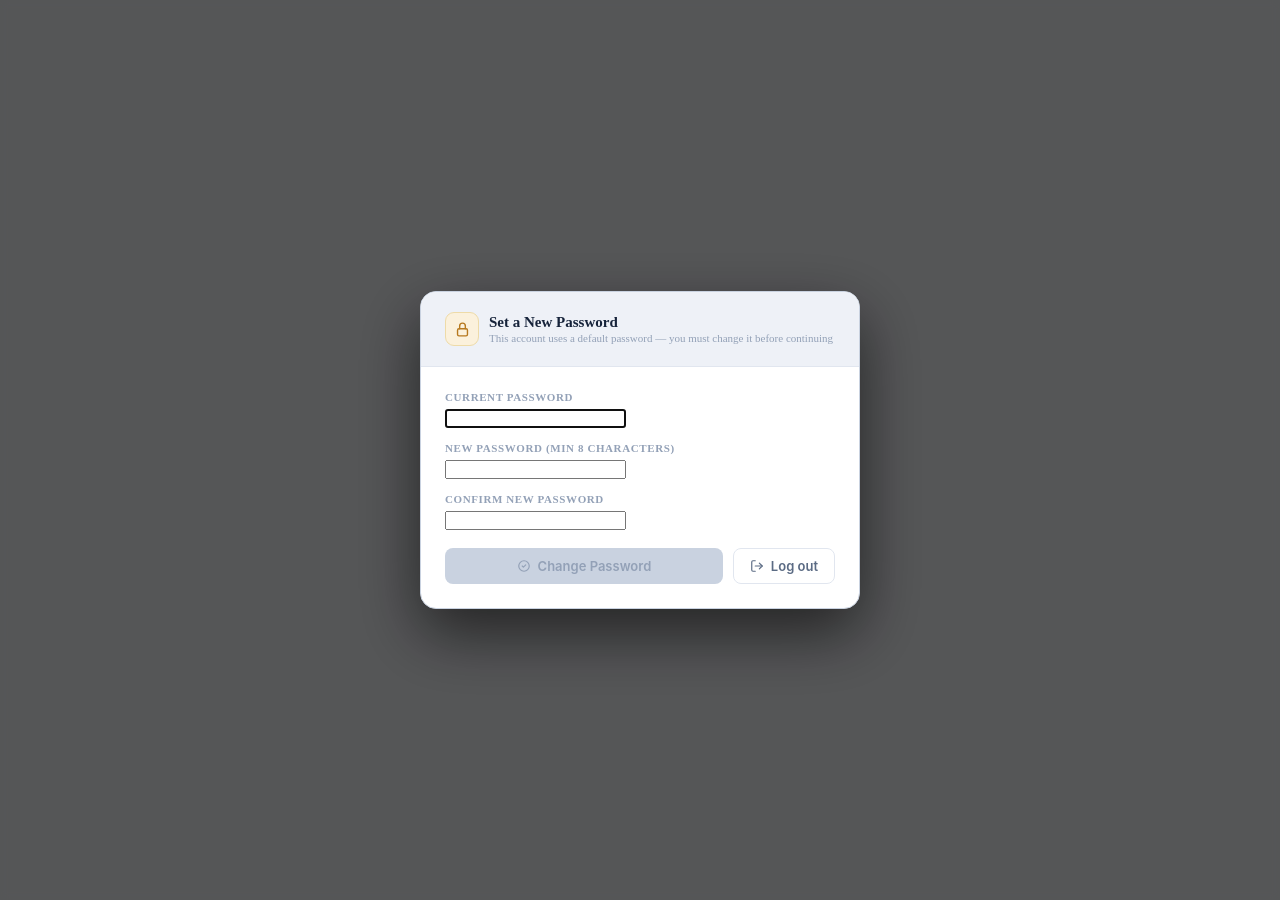
it: ForceChangePasswordModal › rejects mismatched passwords without calling the API
Type "admin123" into the password field below "Current Password" at (536, 418), box x1=445 y1=409 x2=626 y2=428
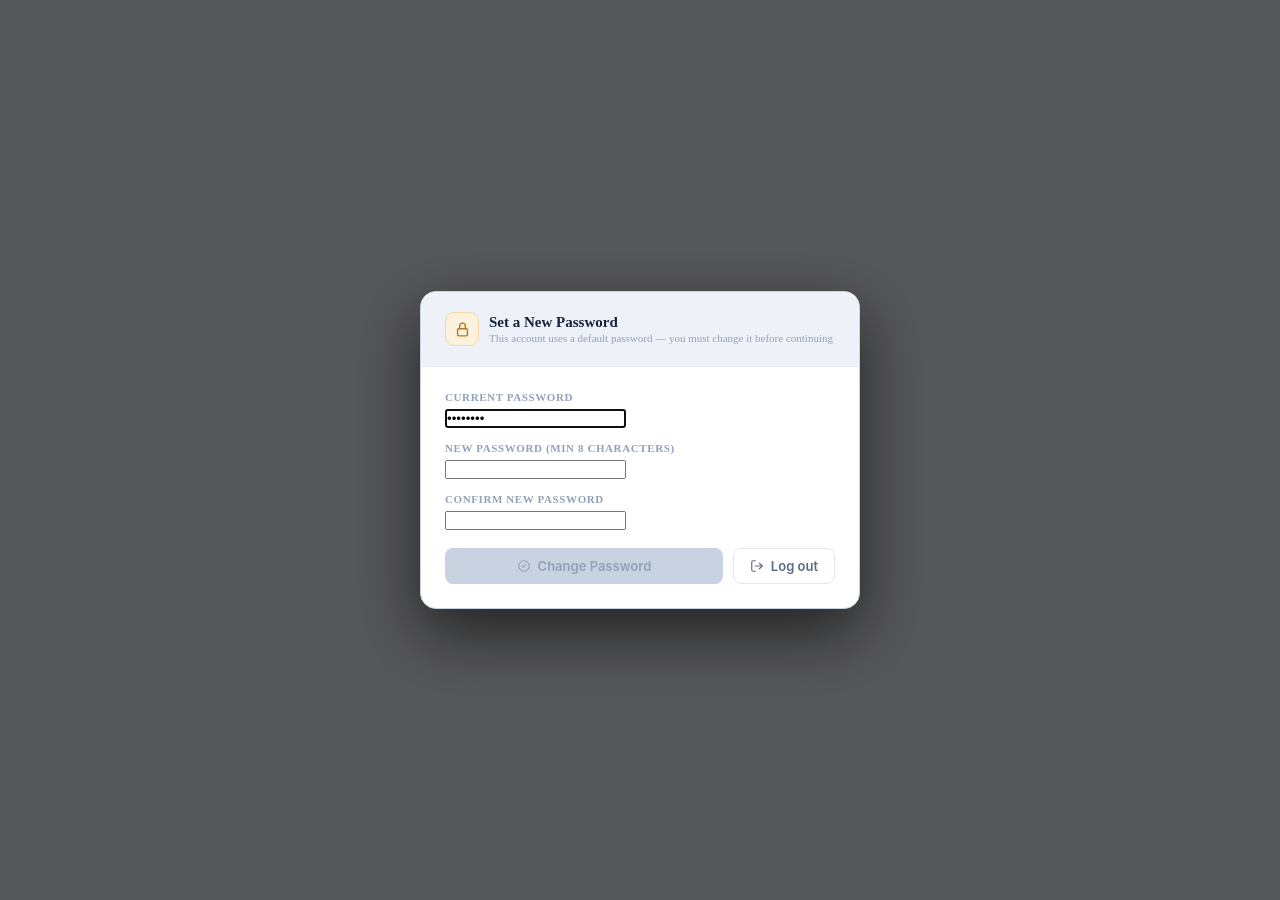
Type "new-password-1" into the password field below "New Password (min 8 characters)" at (536, 470), box x1=445 y1=460 x2=626 y2=479
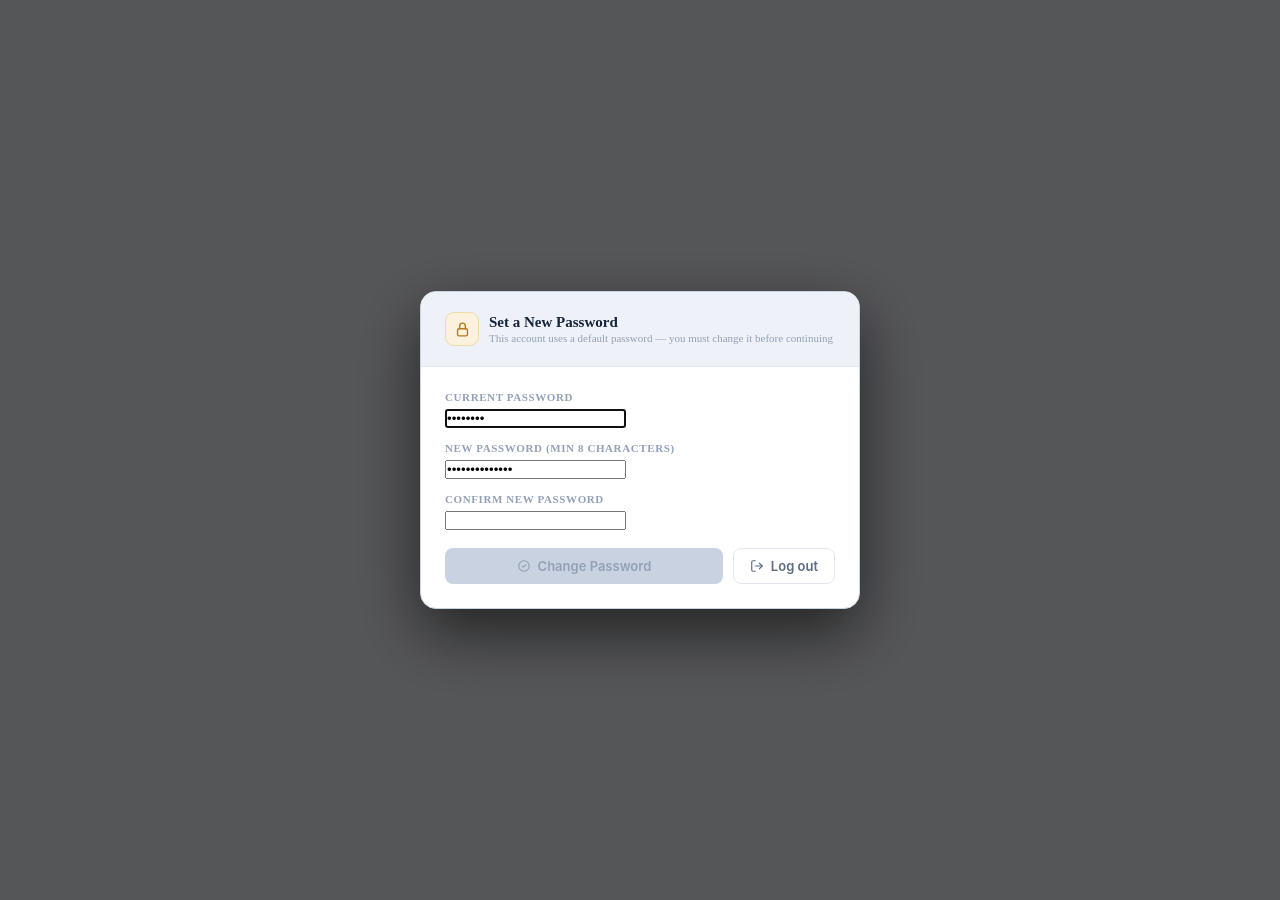
Type "different-1" into the password field below "Confirm New Password" at (536, 520), box x1=445 y1=511 x2=626 y2=530
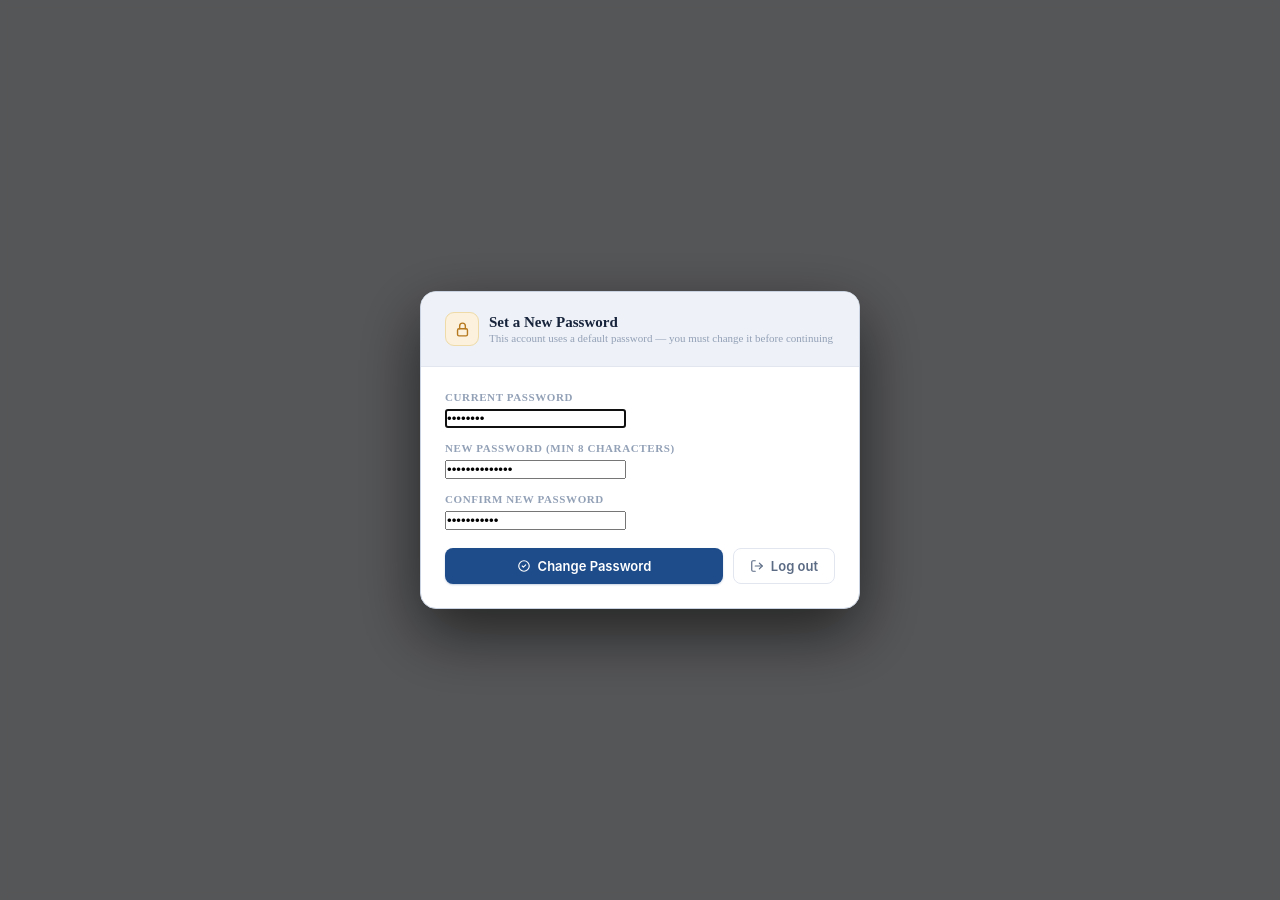
Click the button "Change Password" at (584, 566), box x1=445 y1=548 x2=723 y2=584
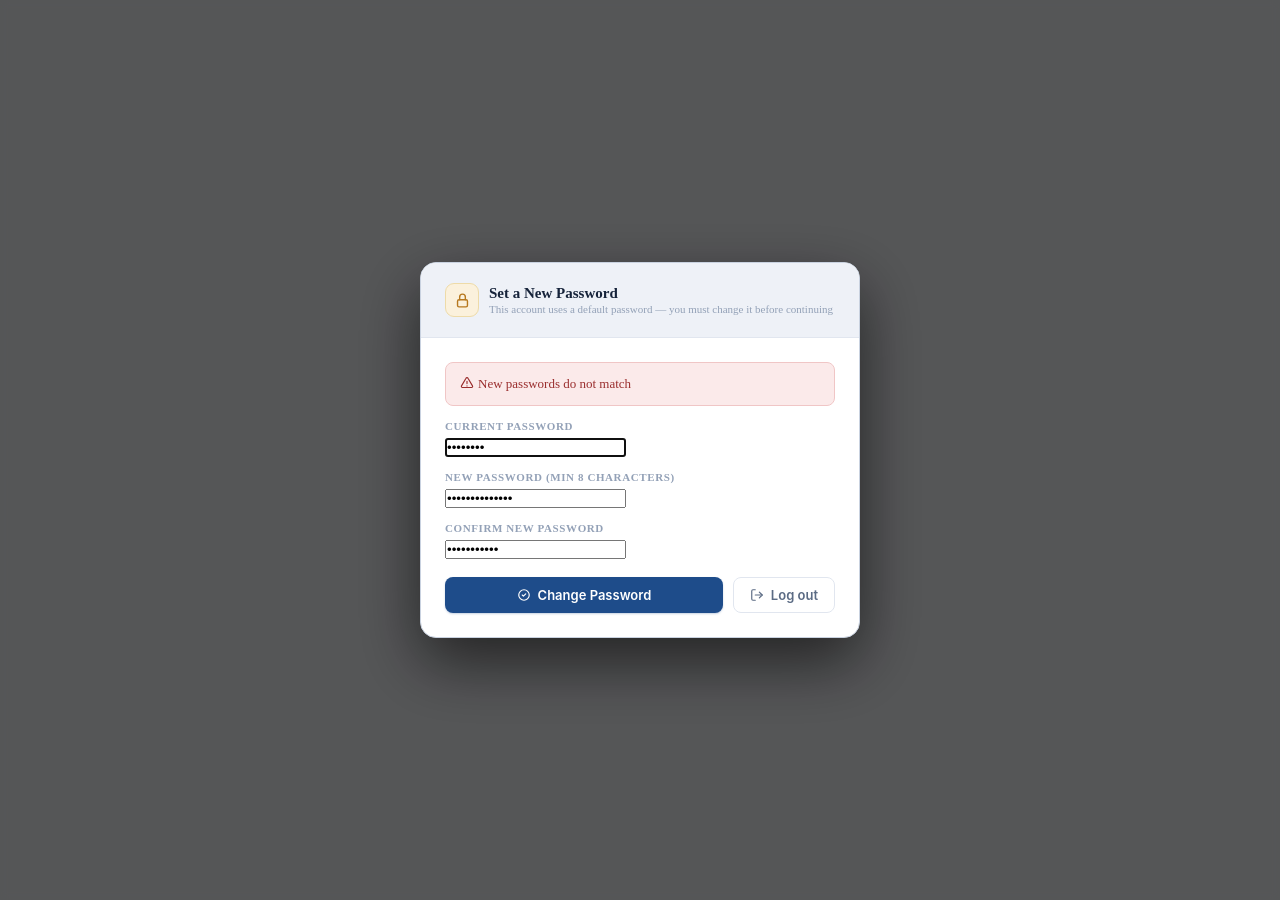
Result: the text "New passwords do not match" is shown at x1=445 y1=362 x2=835 y2=406
